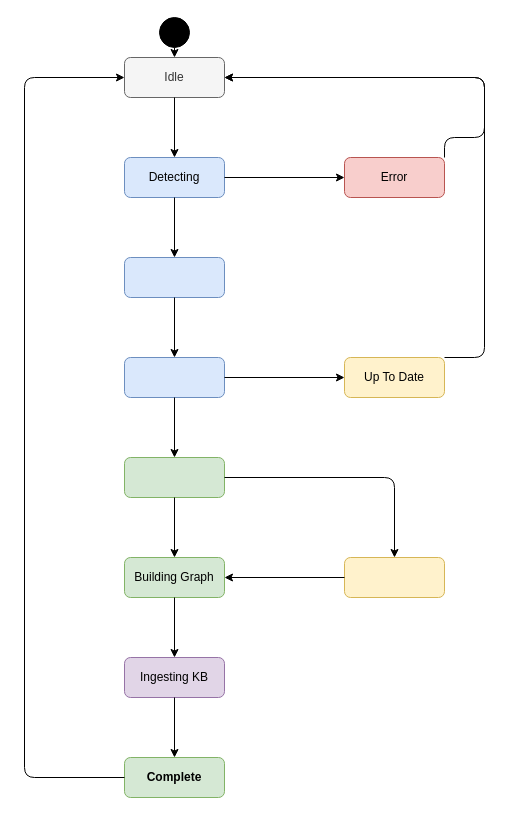
Some shapes in this 510 by 815 pixel diagram are drawn without their labels. The shapes that lost their labels are listed below. From the top down, each one's box as (x1, y1, x2, y2) in pixels, then its label:
(124, 256, 224, 298): Scanning
(124, 356, 224, 398): Comparing
(124, 456, 224, 498): Parsing
(344, 556, 444, 598): Partial
